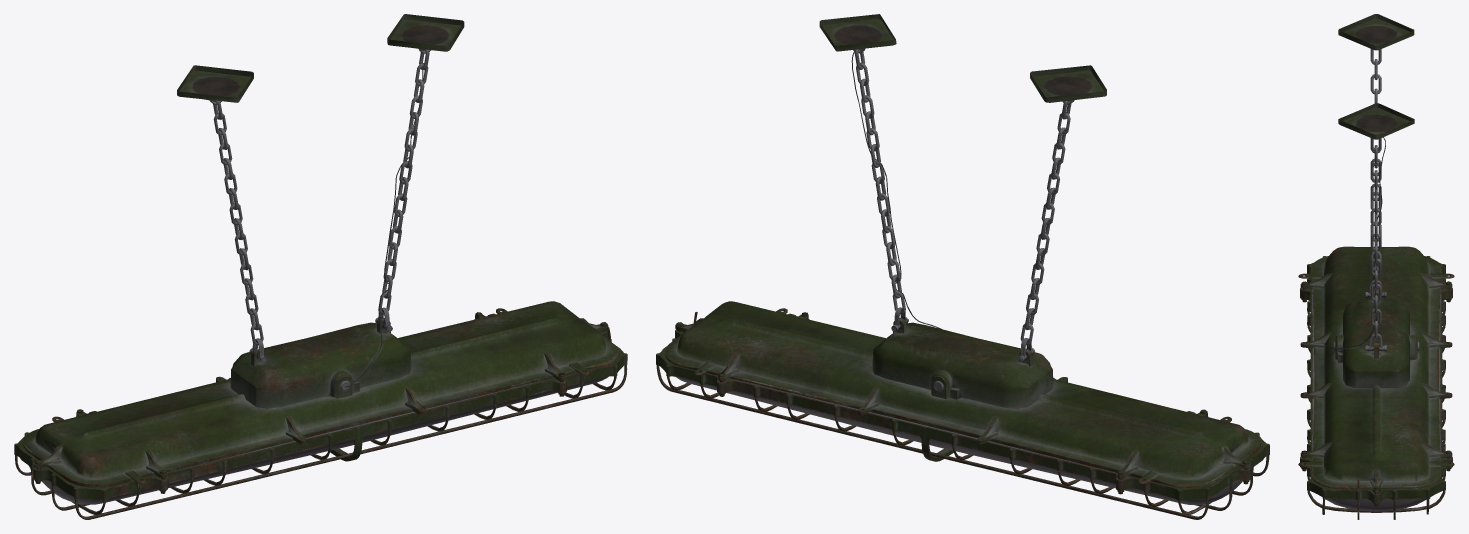
Rendered from caged_hanging_light.glb.
The picture shows the model from 3 angles, left to right: view 1: azimuth 30°, elevation 25°; view 2: azimuth 150°, elevation 25°; view 3: azimuth 270°, elevation 25°; orthographic projection. The views are drawn at different scales.
Parts seen in each view (by area): view 1: caged_hanging_light; view 2: caged_hanging_light; view 3: caged_hanging_light.
Boxes of the visible parts, <box> form: caged_hanging_light: <box>14,14,627,519</box>; caged_hanging_light: <box>656,14,1269,519</box>; caged_hanging_light: <box>1298,14,1454,519</box>.
Bounding box in the file's own units: 1.16 × 0.7501 × 0.3149.
1 material, 1 textured.
